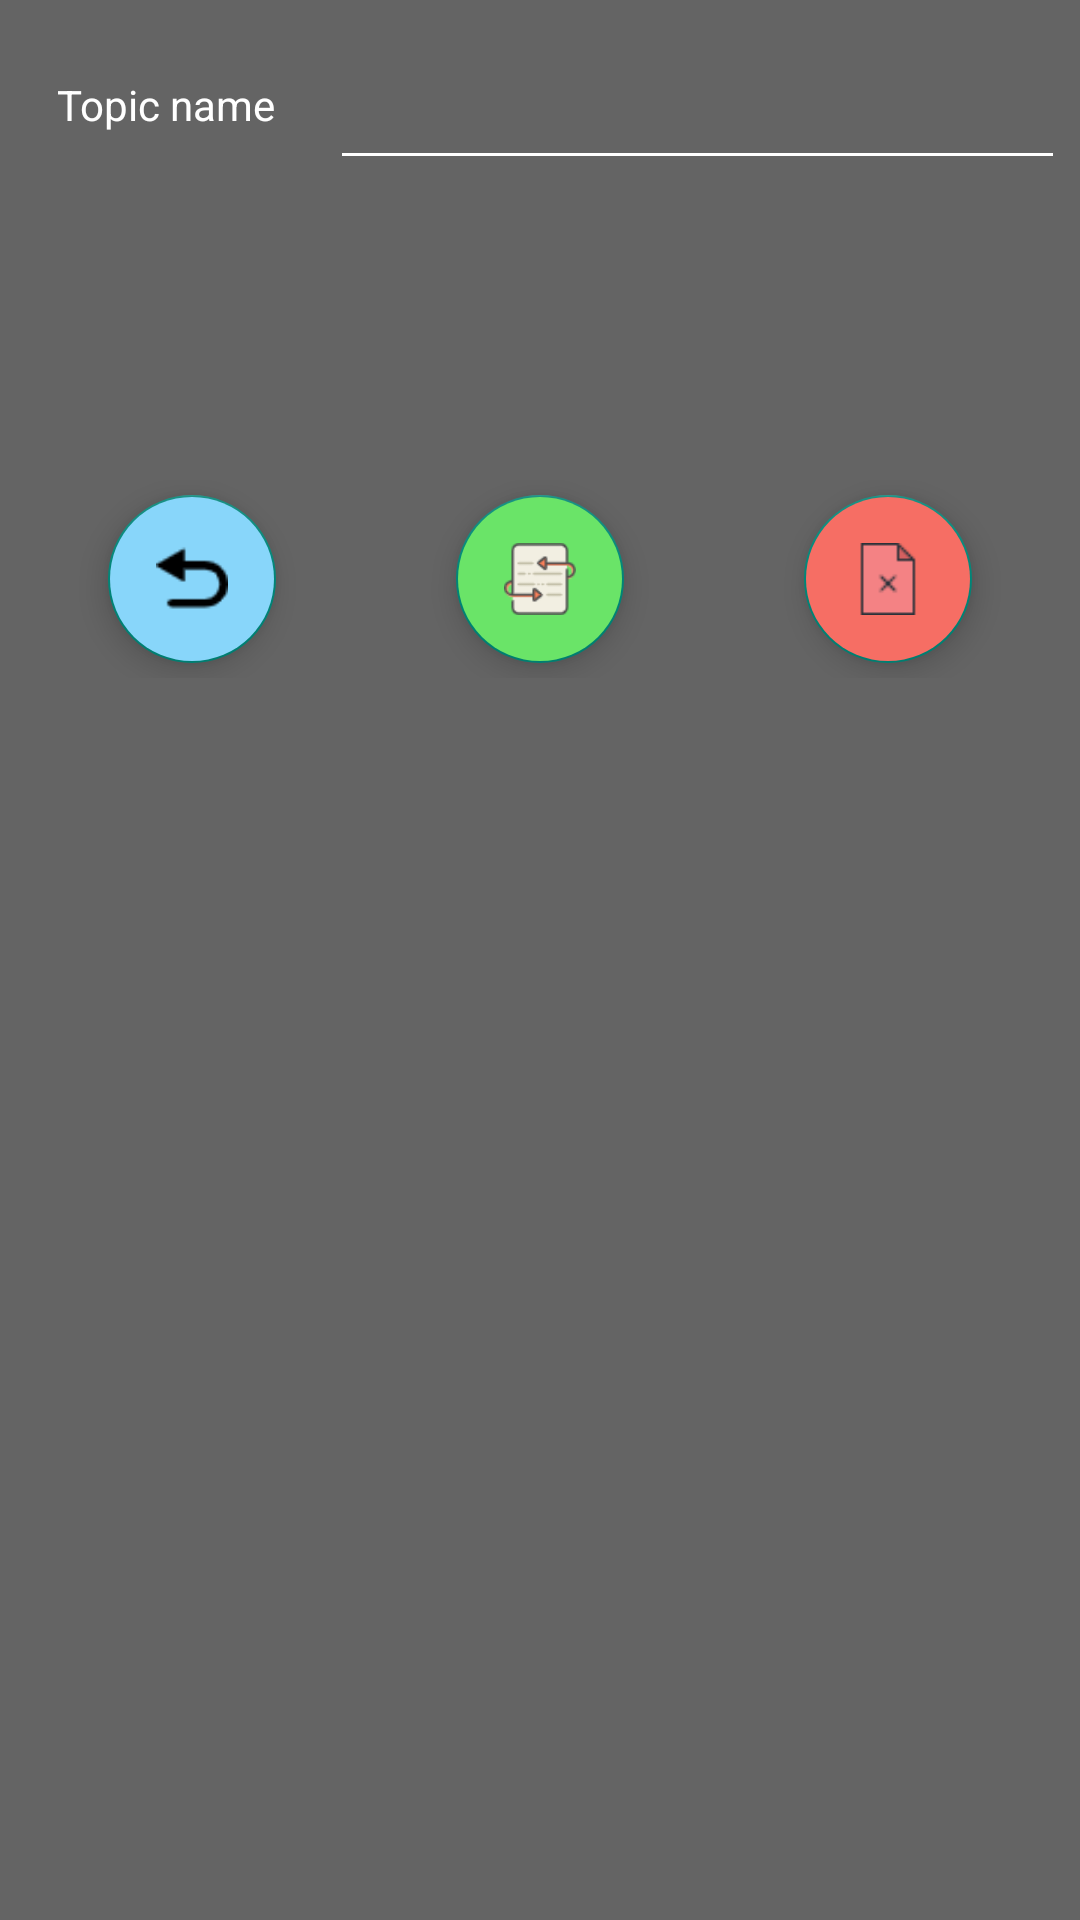

Where icons sit on this 1080x1920 app screen, as {"x1": x1, "y1": y1, "x2": x2, "y2": y2}:
back: {"x1": 108, "y1": 495, "x2": 276, "y2": 663}
delete one: {"x1": 804, "y1": 495, "x2": 972, "y2": 663}
update: {"x1": 456, "y1": 495, "x2": 624, "y2": 663}
